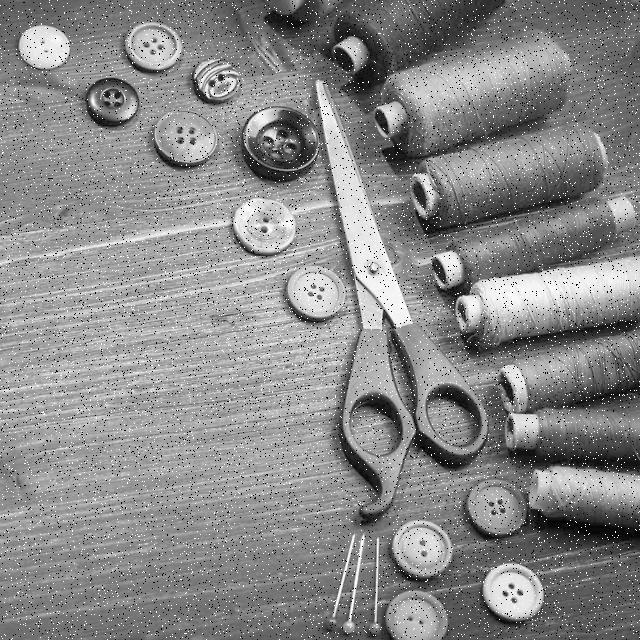scissors: (311, 74, 494, 524)
